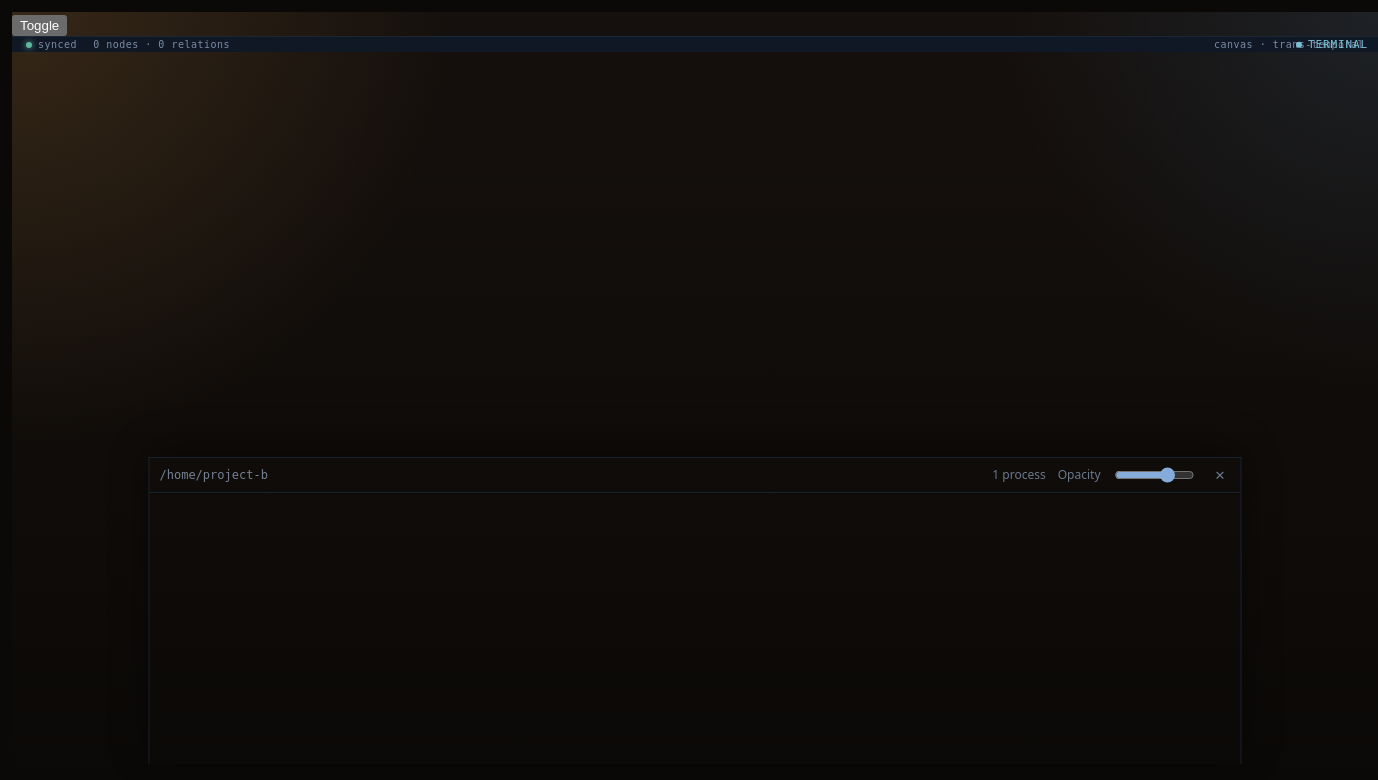
Scenario: TerminalModal › closes via the header close button and leaves the status indicator visible
The width and height of the screenshot is (1378, 780).
expect the element with test id "terminal-modal" is shown: met, box x1=148 y1=457 x2=1242 y2=764
Click the button named "Close terminal" at [1220, 475], box x1=1208 y1=464 x2=1230 y2=486
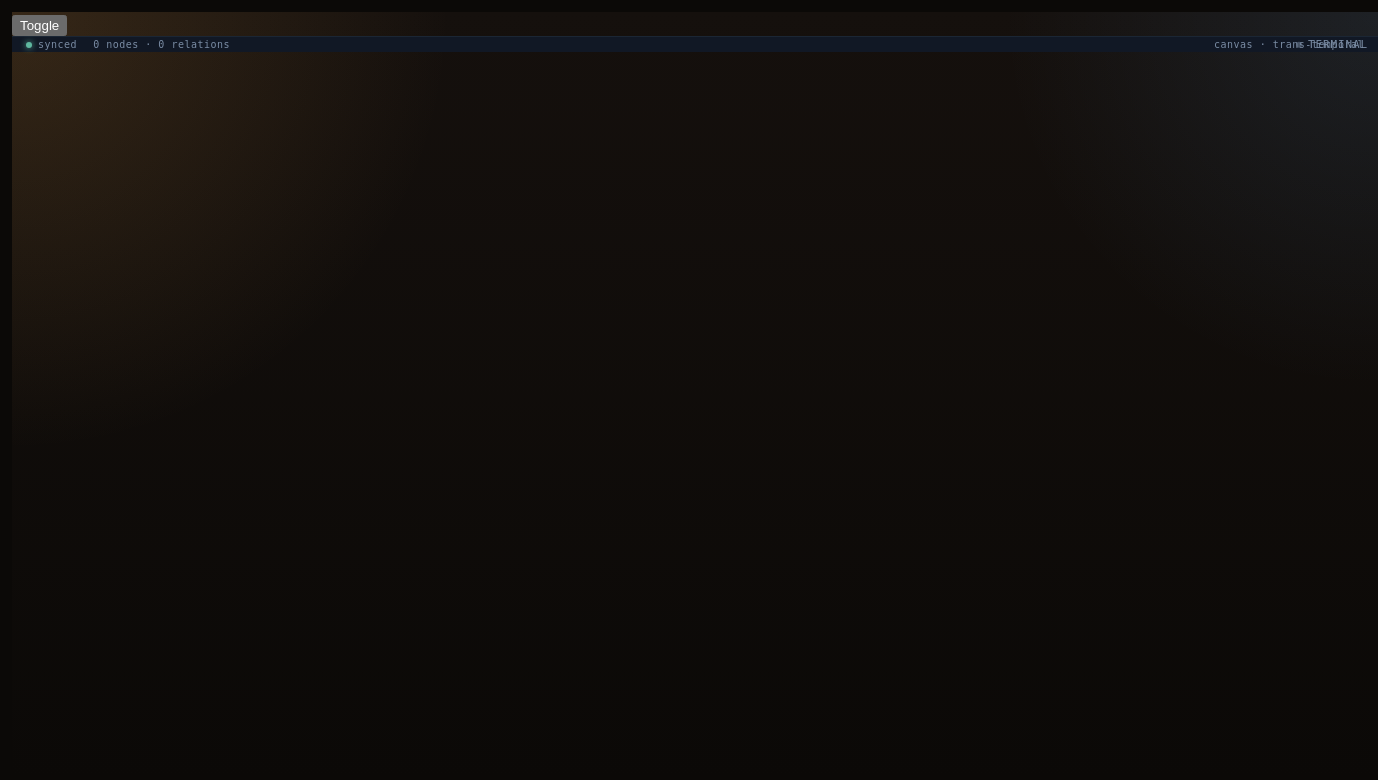
expect the element with test id "terminal-modal" is gone: met
